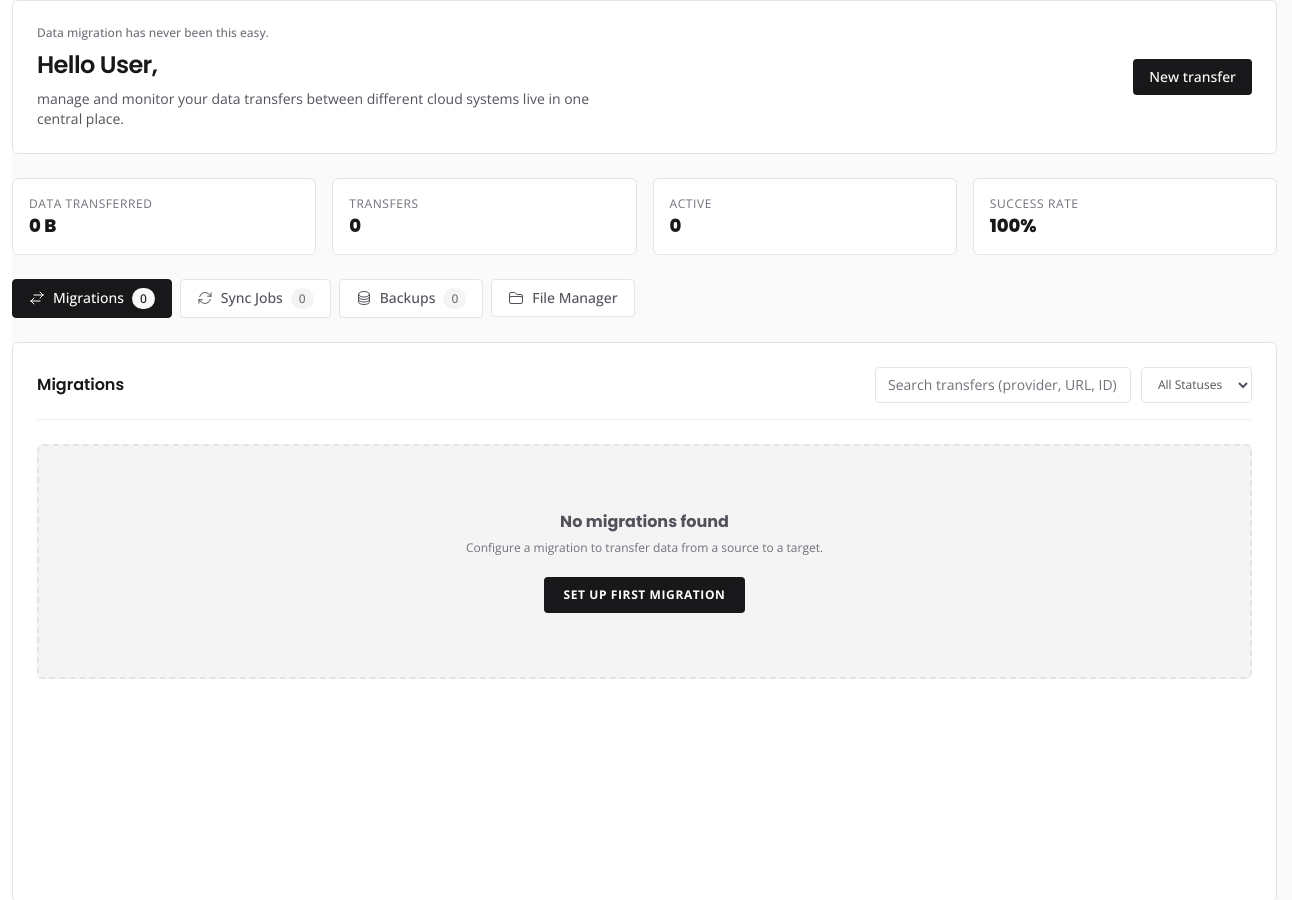
it: MigrationsDashboard tabs › displays the mapped error or network fallback when loading sync jobs
The image size is (1292, 900).
What coordinates should you click on to do the following:
click the tab "Sync Jobs 0"
I would click on:
 (255, 298)
Its box is [180,278,331,318].
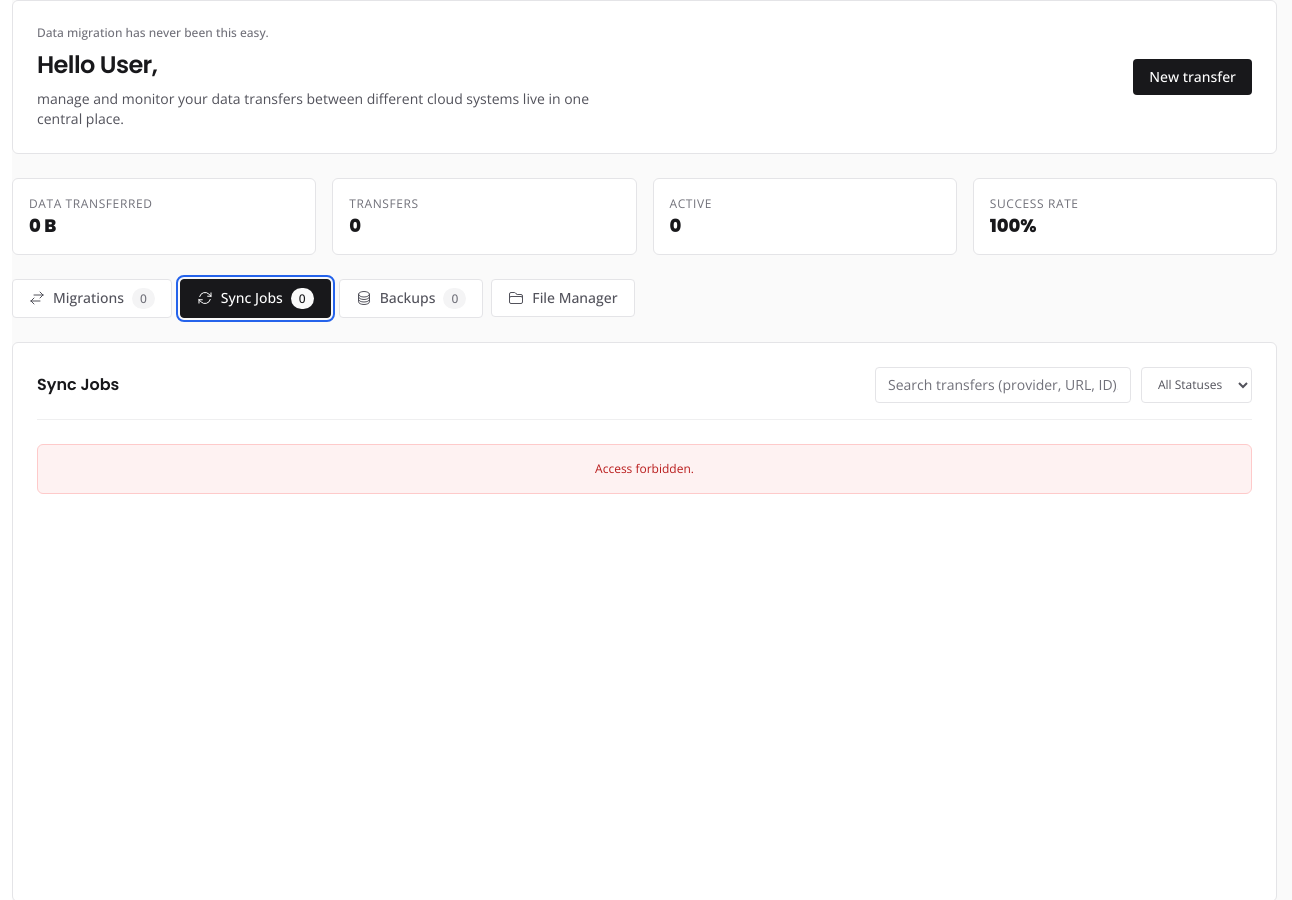
Expected: the text "Access forbidden." is shown, [37,444,1252,494]
